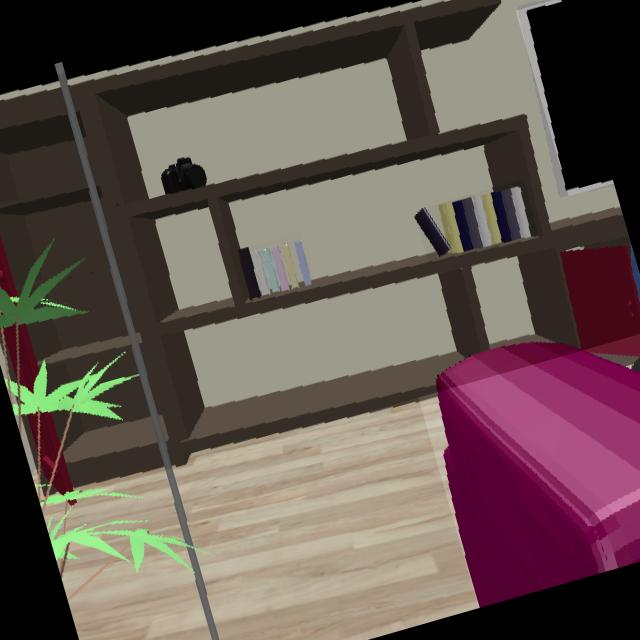book: (416, 186, 537, 256), (240, 239, 313, 298)
bookshelf: (0, 0, 632, 486)
monitor: (523, 0, 614, 189)
sofa: (435, 339, 640, 607)
